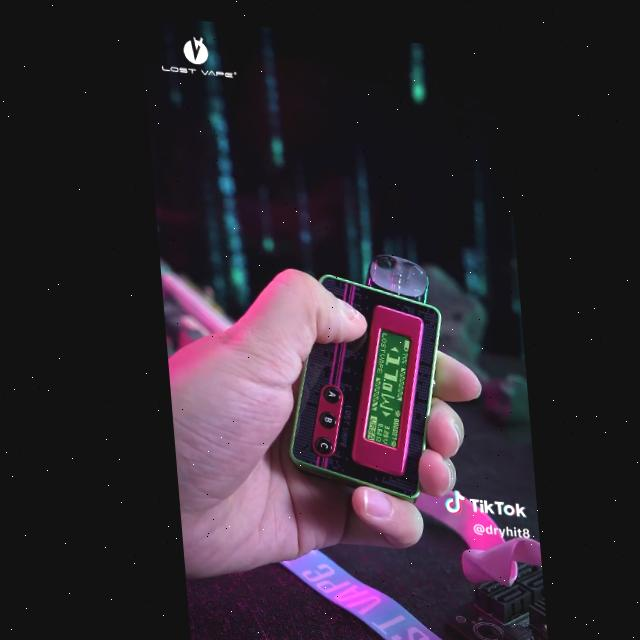vape: (270, 235, 447, 494)
